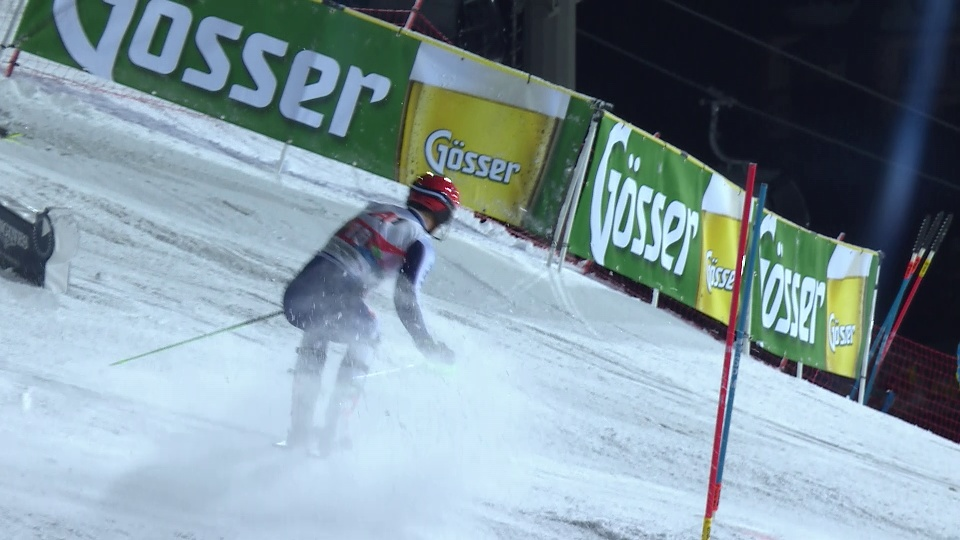goesser: (94, 1, 423, 164), (558, 115, 747, 317), (755, 223, 876, 372), (417, 128, 538, 193), (707, 248, 739, 301)
